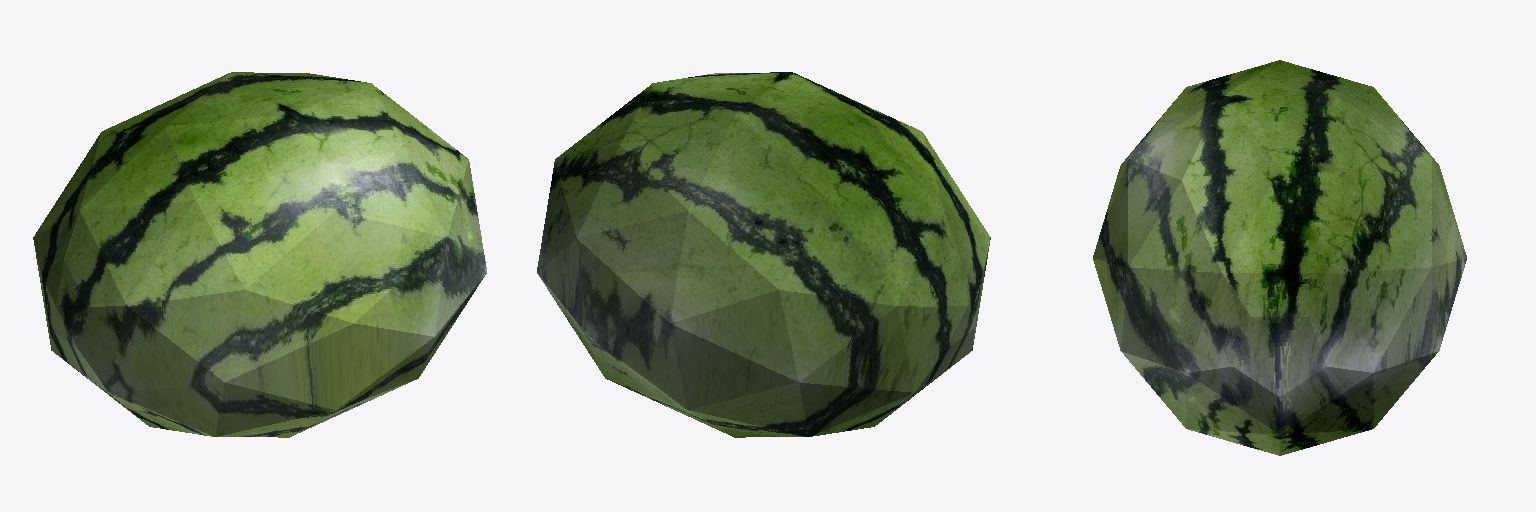
The picture shows the model from 3 angles: view 1: azimuth 30°, elevation 25°; view 2: azimuth 150°, elevation 25°; view 3: azimuth 270°, elevation 25°; orthographic projection.
Parts seen in each view (by area): view 1: Icosphere; view 2: Icosphere; view 3: Icosphere.
Part boxes in pixels (x1,y1,x2,y2): Icosphere: (33,72,486,437); Icosphere: (537,72,990,437); Icosphere: (1093,60,1466,455).
Size of the model in its own units: 2.47 by 1.9 by 2.
1 materials, 1 textured.